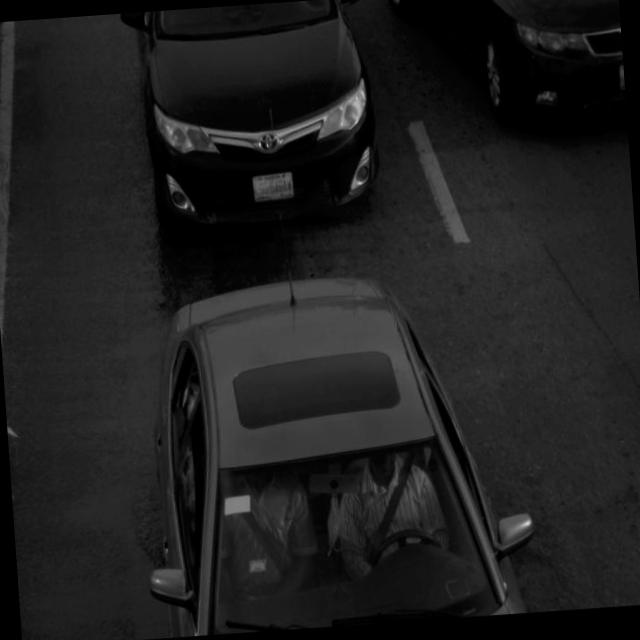person_with_seatbelt: (328, 434, 462, 630)
